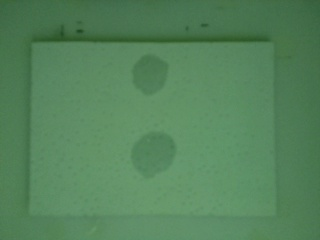Water_detected: (136, 135, 169, 167), (141, 62, 169, 88)
